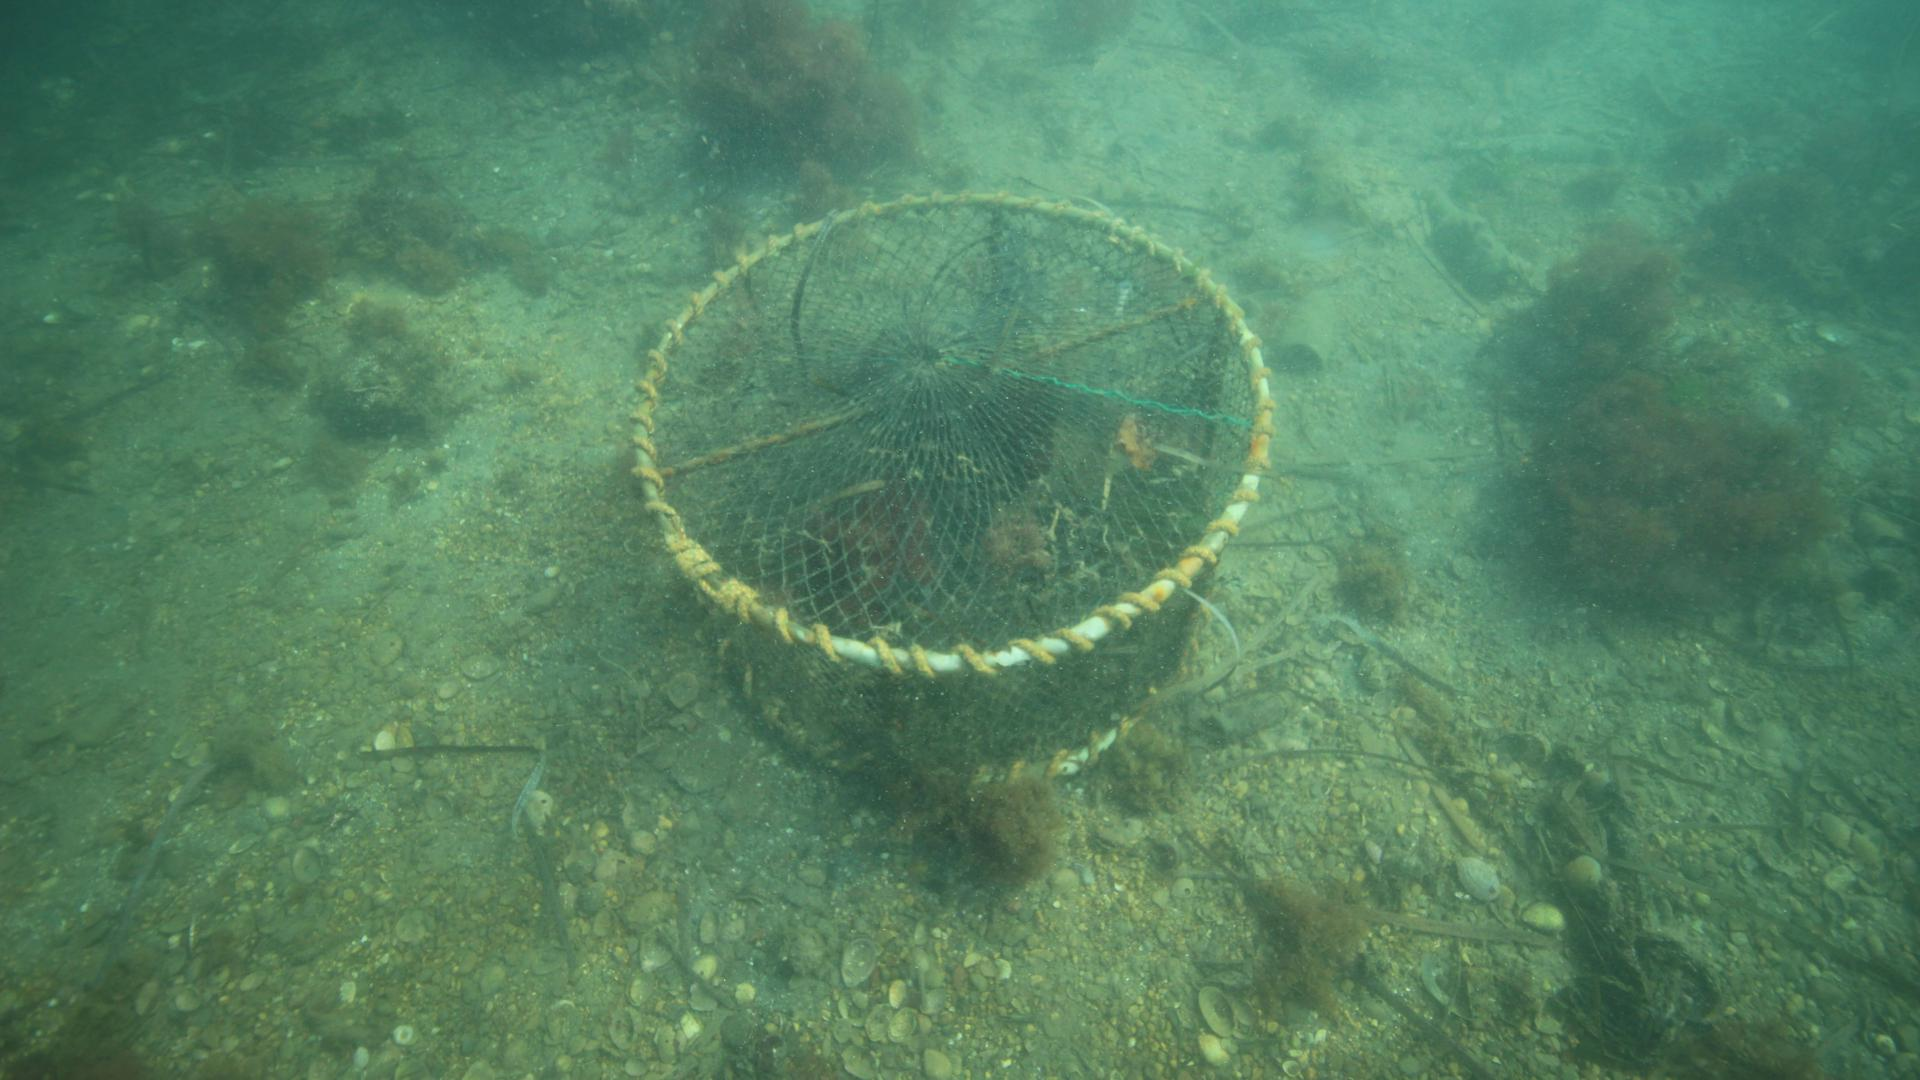circular fish trap: (624, 189, 1276, 785)
